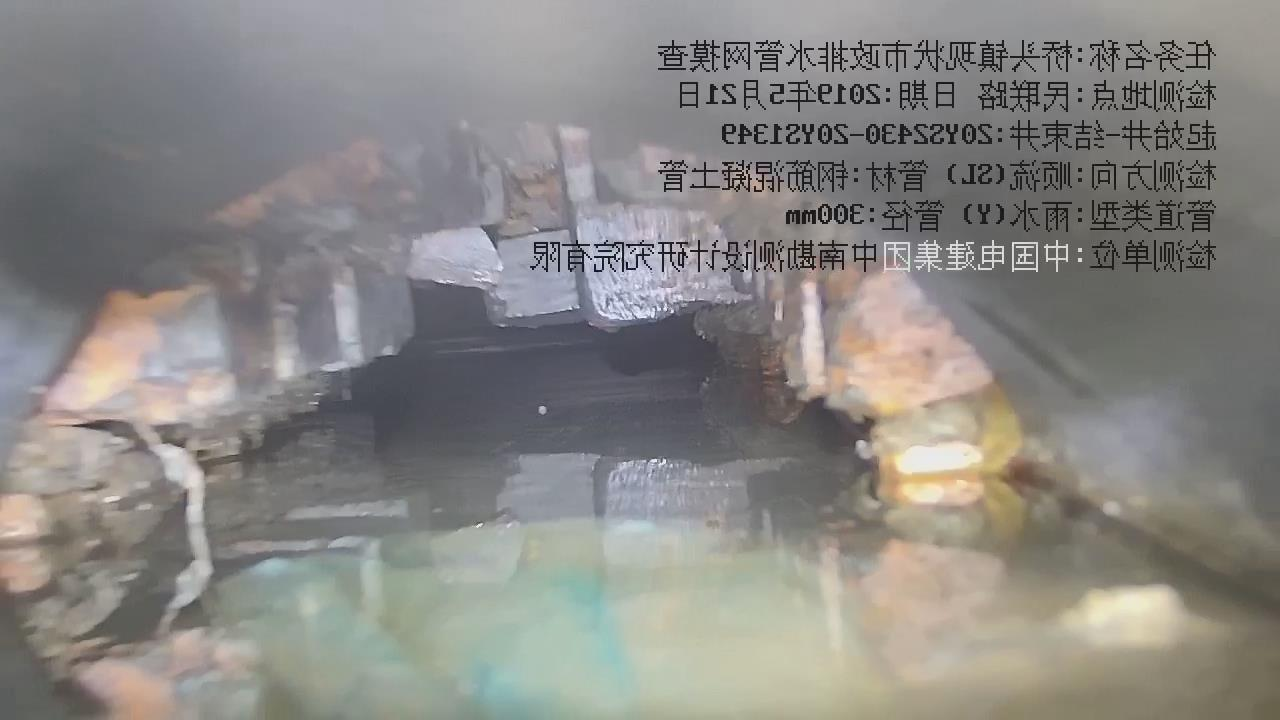CQBG: (1, 123, 1021, 589)
